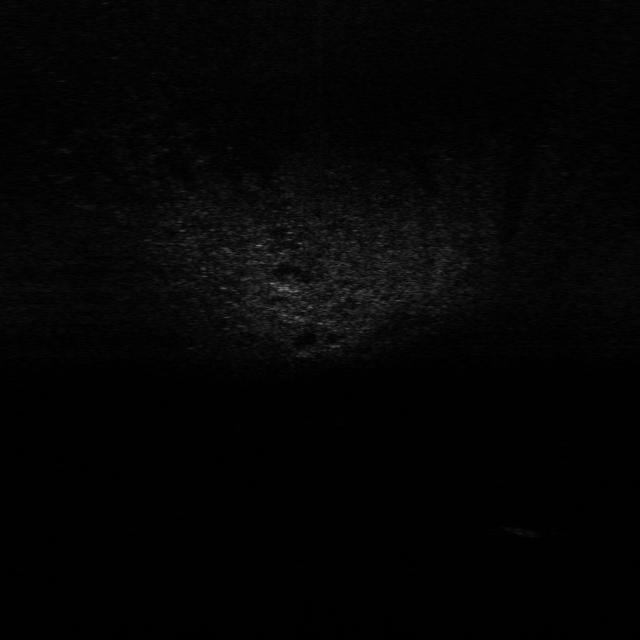cylinder: (500, 523, 544, 540)
